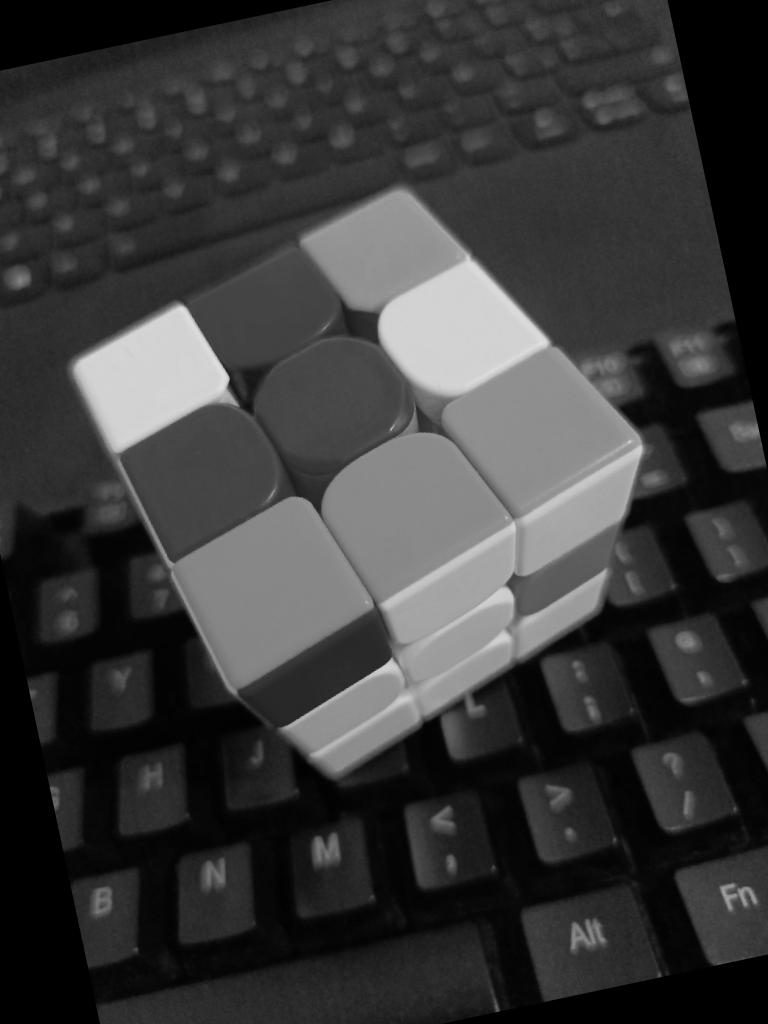rubik: (42, 143, 700, 817)
